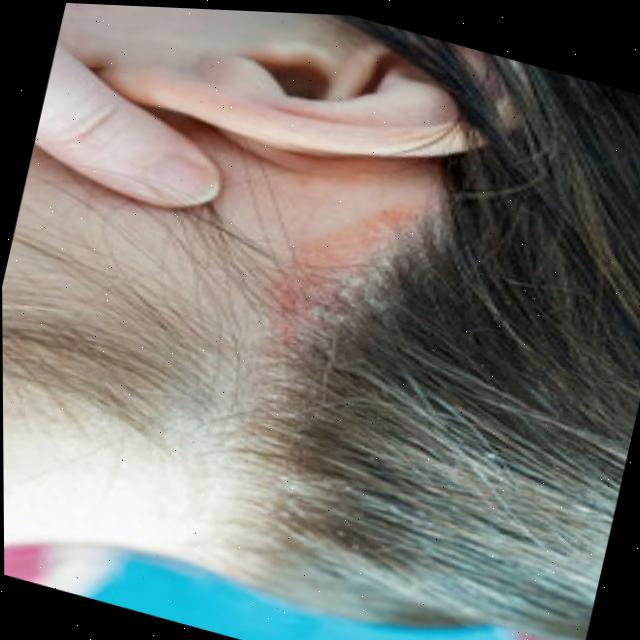Eczema: (261, 171, 455, 363)
